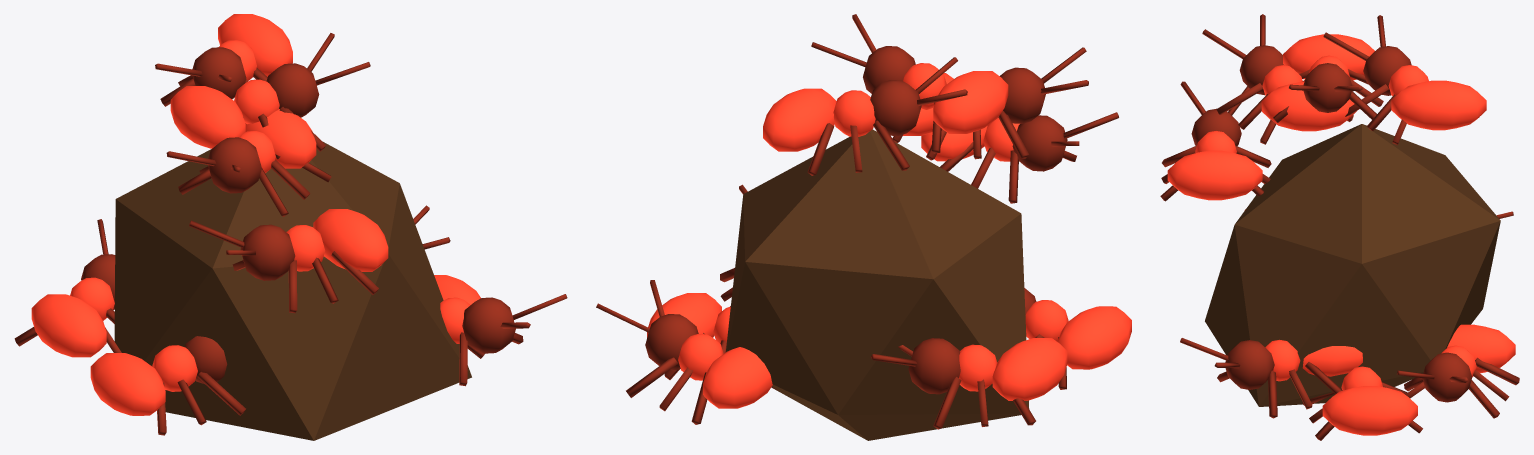
The model's file is termite_clump.glb.
The picture shows the model from 3 angles, left to right: view 1: azimuth 30°, elevation 25°; view 2: azimuth 150°, elevation 25°; view 3: azimuth 270°, elevation 25°; orthographic projection. The views are drawn at different scales.
Parts seen in each view (by area): view 1: TermiteClump; view 2: TermiteClump; view 3: TermiteClump.
Boxes of the visible parts, box(x1,y1,x2,y2) form: TermiteClump: box(14, 14, 567, 440); TermiteClump: box(596, 14, 1131, 440); TermiteClump: box(1160, 14, 1519, 440).
Size of the model in its own units: 0.5612 by 0.4838 by 0.4636.
